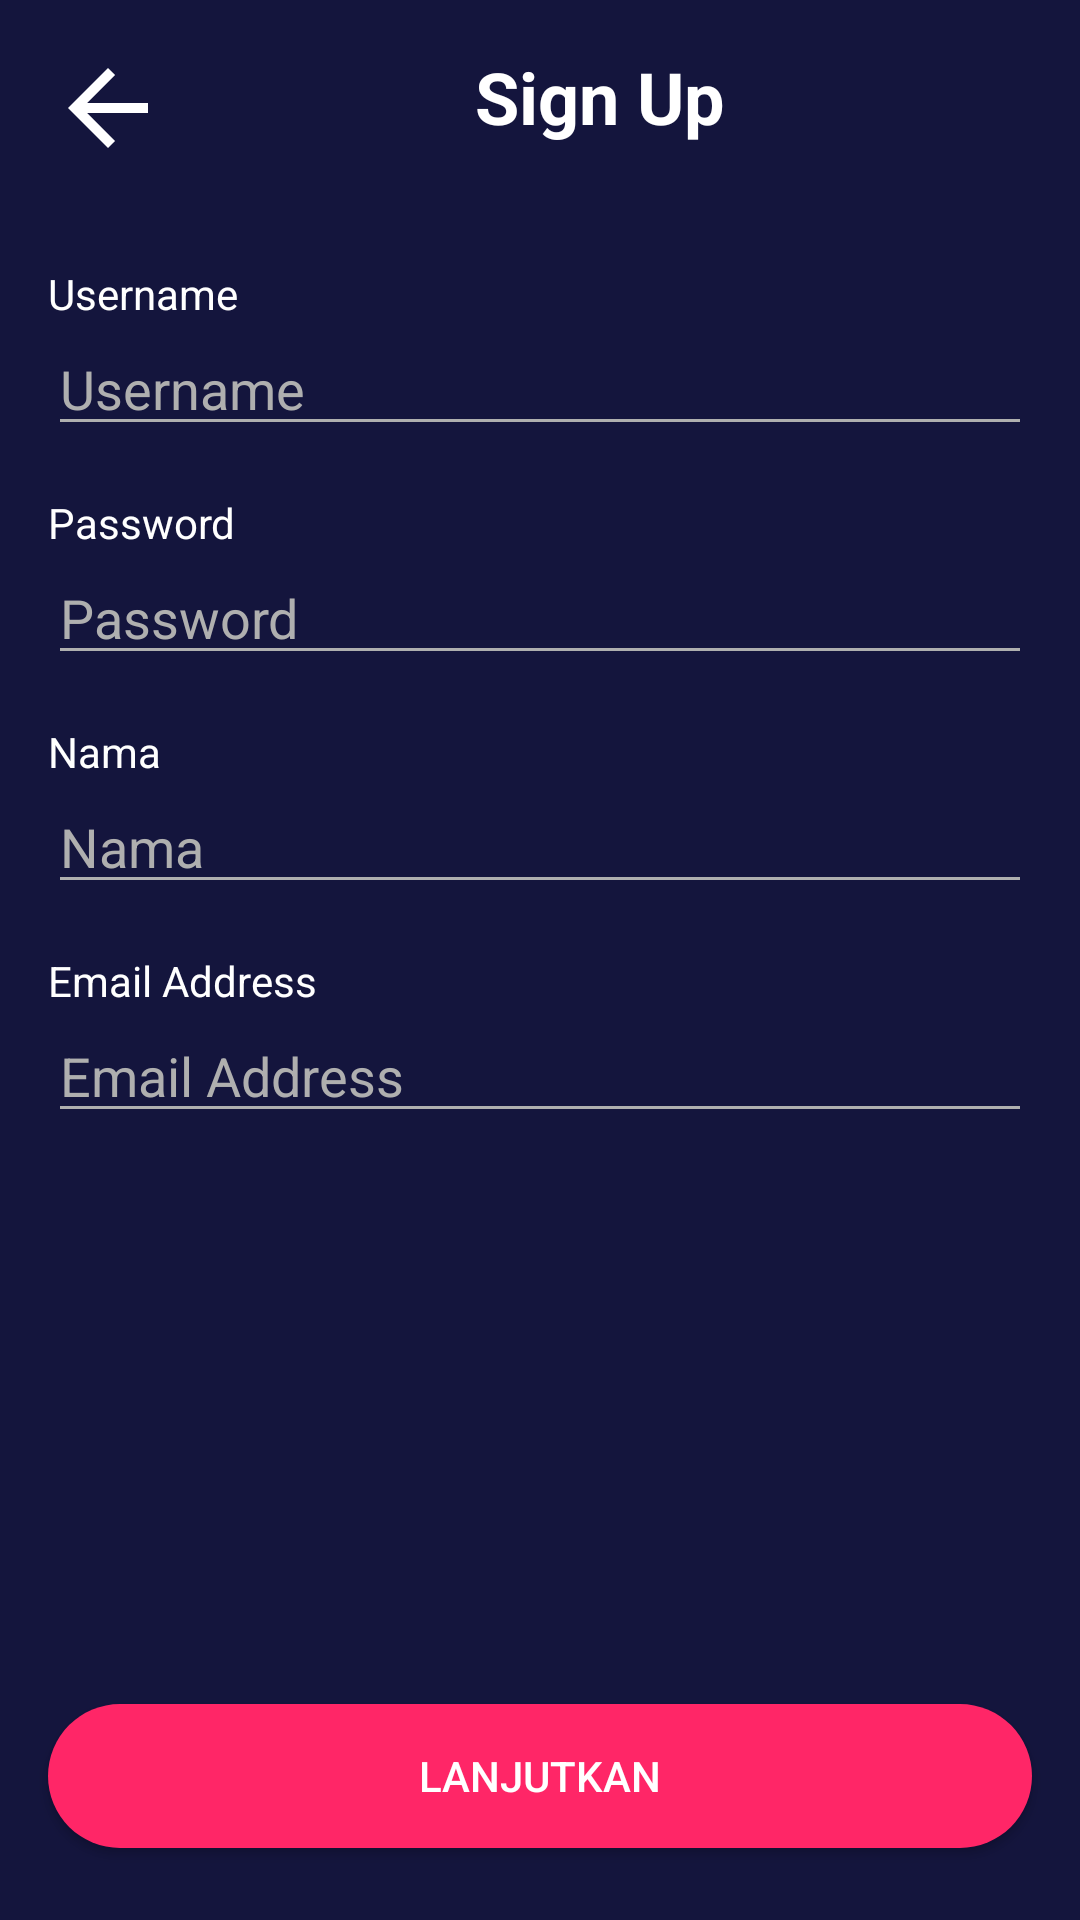

Named icons in this screenshot (1080px x 1920px) and their centers, point (x, y):
arrow left: point (108, 108)
